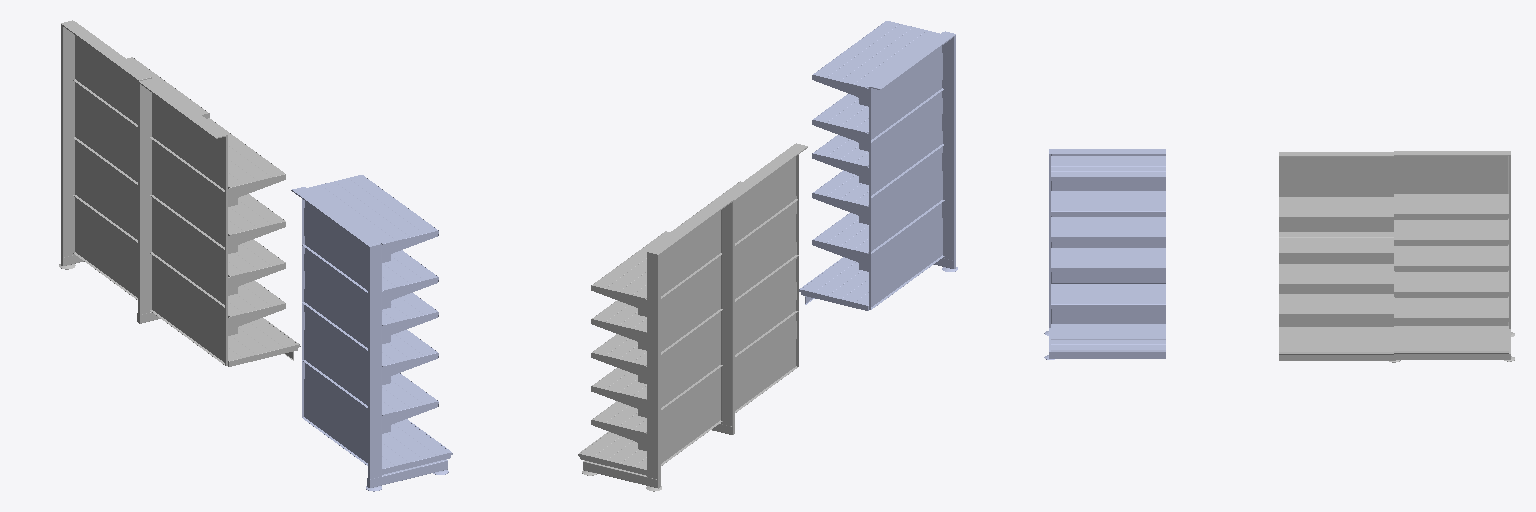
The robot description file, URDF, robot "iai_shelves":
<?xml version="1.0" ?>
<robot name="iai_shelves">
<!--   <joint name="map_to_room" type="fixed">
    <parent link="map"/>
    <child link="room_link"/>
  </joint> -->

  <link name="room_link">    
  </link>

  <joint name="shelf1_joint" type="fixed">
    <origin xyz="-1.5 0.0 0.0" rpy="0.0 0.0 0.0"/>
    <parent link="room_link"/>
    <child link="shelf1"/>
  </joint>
  <link name="shelf1">
    <visual>
      <origin rpy="0 0 0" xyz="0.07 0 0"/>
      <geometry>
        <mesh filename="package://iai_shelves/meshes/Shelf_1.dae"/>
      </geometry>
      <material
        name="">
        <color
          rgba="0.792156862745098 0.819607843137255 0.933333333333333 1" />
      </material>
    </visual>
  </link>

  <joint name="shelf2_joint" type="fixed">
    <origin xyz="0.0 1.0 0.0" rpy="0.0 0.0 0.0"/>
    <parent link="shelf1"/>
    <child link="shelf2"/>
  </joint>
  <link name="shelf2">
    <visual>
      <origin rpy="0 0 0" xyz="0 0 0"/>
      <geometry>
        <mesh filename="package://iai_shelves/meshes/Shelf_2_no_texture_center_left_bottom_corner.dae"/>
      </geometry>
      <material
        name="">
        <color
          rgba="0.792156862745098 0.819607843137255 0.933333333333333 1" />
      </material>
    </visual>
  </link>


  <joint name="shelf3_joint" type="fixed">
    <origin xyz="0.0 1.0 0.0" rpy="0.0 0.0 0.0"/>
    <parent link="shelf2"/>
    <child link="shelf3"/>
  </joint>
  <link name="shelf3">
    <visual>
      <origin rpy="0 0 0" xyz="0 0 0"/>
      <geometry>
        <mesh filename="package://iai_shelves/meshes/Shelf_3.dae"/>
      </geometry>
      <material name="Cyan">
        <color rgba=".8 .8 .8 1.0"/>
     </material>
    </visual>
  </link>


  <joint name="shelf4_joint" type="fixed">
    <origin xyz="0.0 1.0 0.0" rpy="0.0 0.0 0.0"/>
    <parent link="shelf3"/>
    <child link="shelf4"/>
  </joint>
  <link name="shelf4">
    <visual>
      <origin rpy="0 0 0" xyz="0 0 0"/>
      <geometry>
        <mesh filename="package://iai_shelves/meshes/Shelf_4.dae"/>
      </geometry>
      <material name="Cyan">
        <color rgba=".8 .8 .8 1.0"/>
     </material>
    </visual>
  </link>  
</robot>

--- Render facts (derived) ---
Views: 3 orthographic renders of the robot side by side, from view 1: azimuth 30°, elevation 25°; view 2: azimuth 150°, elevation 25°; view 3: azimuth 270°, elevation 25°.
Robot: iai_shelves — 5 links, 4 joints (4 fixed); root link room_link; default pose: every joint at zero.
Visible links, largest first — view 1: shelf1, shelf3, shelf4; view 2: shelf1, shelf4, shelf3; view 3: shelf1, shelf4, shelf3.
Link boxes in pixels (x1,y1,x2,y2): shelf1: (291, 175, 452, 491); shelf3: (137, 79, 300, 366); shelf4: (59, 20, 209, 299); shelf1: (799, 21, 957, 310); shelf4: (578, 196, 733, 491); shelf3: (671, 143, 807, 434); shelf1: (1044, 149, 1165, 359); shelf4: (1394, 151, 1514, 361); shelf3: (1279, 152, 1400, 362).
Size in the robot's own frame: 0.6595 by 4.11 by 1.78 metres.
3 mesh visuals loaded from 4 distinct referenced files (3 Collada DAE); not drawn: 1 (reference not matched to a file when rendering).